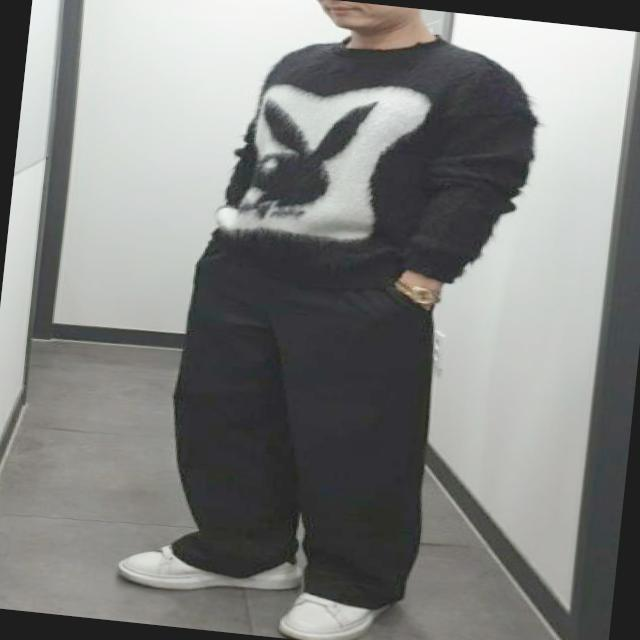slacks: (148, 223, 449, 611)
sweater: (202, 11, 540, 304)
